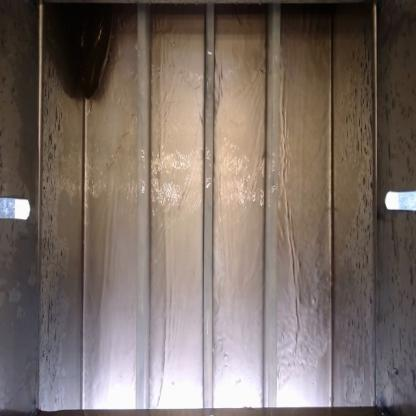pezw: (82, 4, 132, 102)
